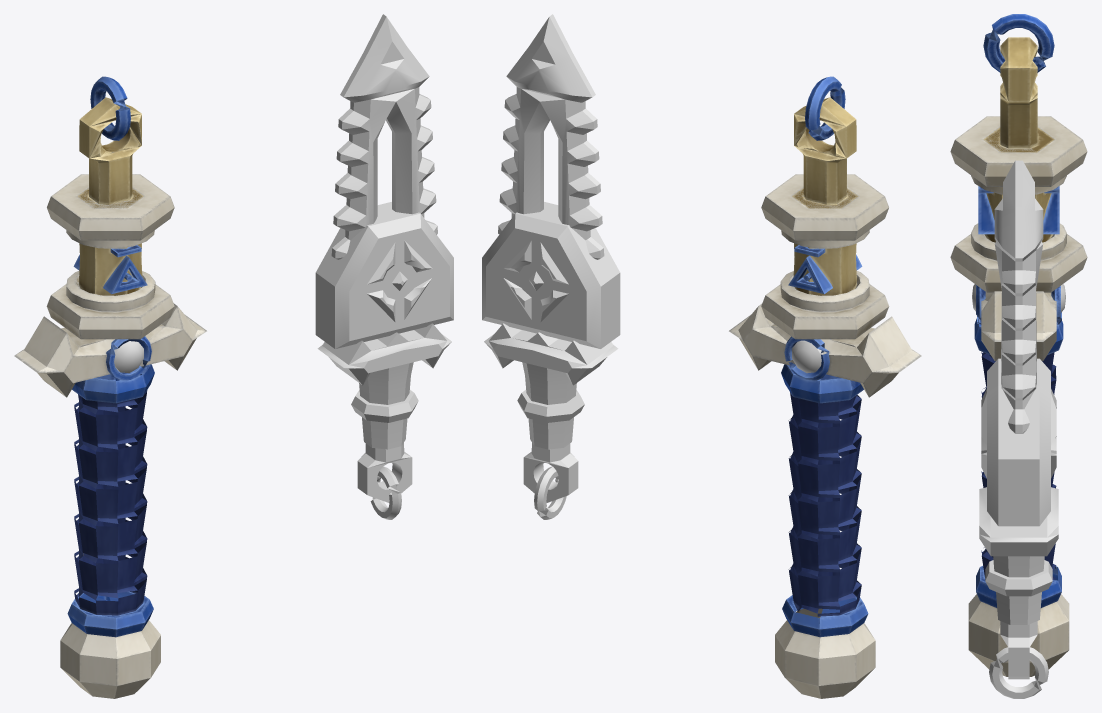
The model's file is Runelink Flail.fbx.
3 renders of one model, left to right at view 1: azimuth 30°, elevation 25°; view 2: azimuth 150°, elevation 25°; view 3: azimuth 270°, elevation 25°, orthographic. The views are drawn at different scales.
Visible parts, largest first — view 1: Runelink Flail_Body, HeadBlade, HeadLanget, HeadGuard, HeadFerrule, TailLug, HeadMotif, HeadBand, TailRing, Runelink Flail_Glow; view 2: Runelink Flail_Body, HeadBlade, HeadLanget, HeadGuard, HeadFerrule, TailLug, HeadMotif, HeadBand, TailRing, Runelink Flail_Glow; view 3: Runelink Flail_Body, HeadBlade, HeadLanget, HeadGuard, HeadFerrule, TailLug, TailRing, HeadBand, HeadMotif.
Part boxes in pixels (<box>): Runelink Flail_Body: <box>14,76,206,698</box>; HeadBlade: <box>331,14,437,259</box>; HeadLanget: <box>315,202,453,348</box>; HeadGuard: <box>317,323,451,385</box>; HeadFerrule: <box>359,362,413,449</box>; TailLug: <box>357,443,412,502</box>; HeadMotif: <box>367,240,432,321</box>; HeadBand: <box>351,389,418,422</box>; TailRing: <box>370,466,401,519</box>; Runelink Flail_Glow: <box>105,339,143,373</box>; Runelink Flail_Body: <box>729,76,921,698</box>; HeadBlade: <box>498,14,604,259</box>; HeadLanget: <box>482,202,620,348</box>; HeadGuard: <box>484,323,618,385</box>; HeadFerrule: <box>522,362,576,449</box>; TailLug: <box>523,443,578,502</box>; HeadMotif: <box>503,240,568,321</box>; HeadBand: <box>517,389,584,422</box>; TailRing: <box>534,466,566,519</box>; Runelink Flail_Glow: <box>792,339,830,373</box>; Runelink Flail_Body: <box>950,14,1087,676</box>; HeadBlade: <box>994,160,1043,433</box>; HeadLanget: <box>987,358,1050,526</box>; HeadGuard: <box>979,487,1058,556</box>; HeadFerrule: <box>993,556,1044,624</box>; TailLug: <box>1000,621,1037,679</box>; TailRing: <box>989,647,1048,698</box>; HeadBand: <box>985,560,1052,596</box>; HeadMotif: <box>981,389,1056,478</box>.
Size of the model in its own units: 1.38 by 1.92 by 0.364.
